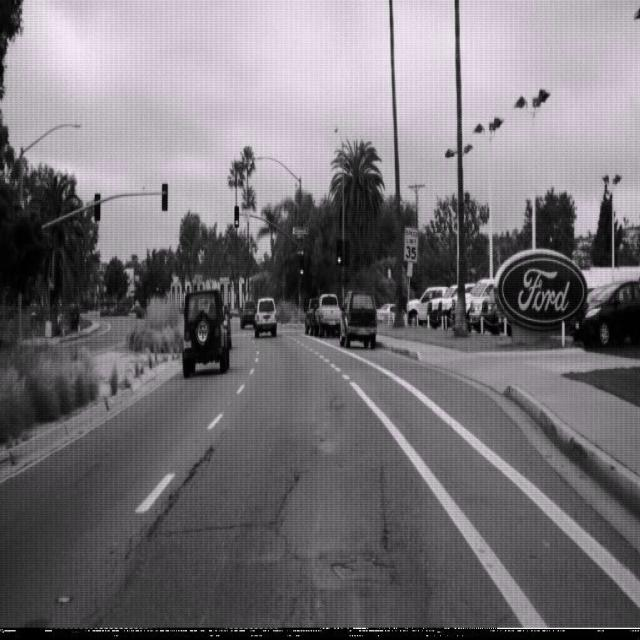speedLimit35: (402, 224, 420, 264)
